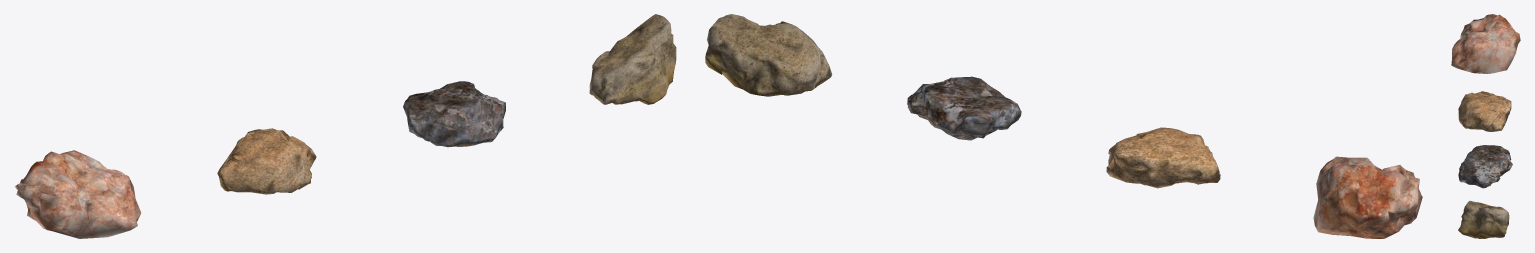
Rendered from namaqualand_rocks_01.glb.
3 views of the same model, side by side, from view 1: azimuth 30°, elevation 25°; view 2: azimuth 150°, elevation 25°; view 3: azimuth 270°, elevation 25° (orthographic). The views are drawn at different scales.
Visible parts, largest first — view 1: namaqualand_rocks_02_a, namaqualand_rocks_02_d, namaqualand_rocks_02_c, namaqualand_rocks_02_b; view 2: namaqualand_rocks_02_d, namaqualand_rocks_02_a, namaqualand_rocks_02_b, namaqualand_rocks_02_c; view 3: namaqualand_rocks_02_a, namaqualand_rocks_02_b, namaqualand_rocks_02_c, namaqualand_rocks_02_d.
Boxes of the visible parts, x1=… form: namaqualand_rocks_02_a: x1=15, y1=150, x2=141, y2=238; namaqualand_rocks_02_d: x1=589, y1=14, x2=676, y2=104; namaqualand_rocks_02_c: x1=403, y1=81, x2=505, y2=147; namaqualand_rocks_02_b: x1=217, y1=128, x2=316, y2=194; namaqualand_rocks_02_d: x1=705, y1=14, x2=832, y2=96; namaqualand_rocks_02_a: x1=1313, y1=156, x2=1422, y2=238; namaqualand_rocks_02_b: x1=1106, y1=127, x2=1220, y2=188; namaqualand_rocks_02_c: x1=907, y1=76, x2=1021, y2=140; namaqualand_rocks_02_a: x1=1451, y1=14, x2=1520, y2=73; namaqualand_rocks_02_b: x1=1458, y1=91, x2=1511, y2=131; namaqualand_rocks_02_c: x1=1458, y1=145, x2=1512, y2=188; namaqualand_rocks_02_d: x1=1458, y1=201, x2=1509, y2=238.
Size of the model in its own units: 1.45 by 0.1505 by 0.2118.
1 material, 1 textured.
